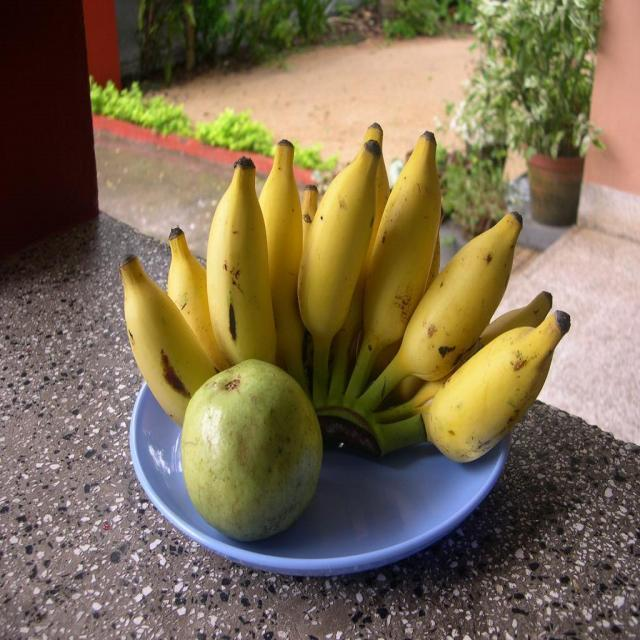Banana: (117, 123, 569, 455), (416, 304, 564, 462)
